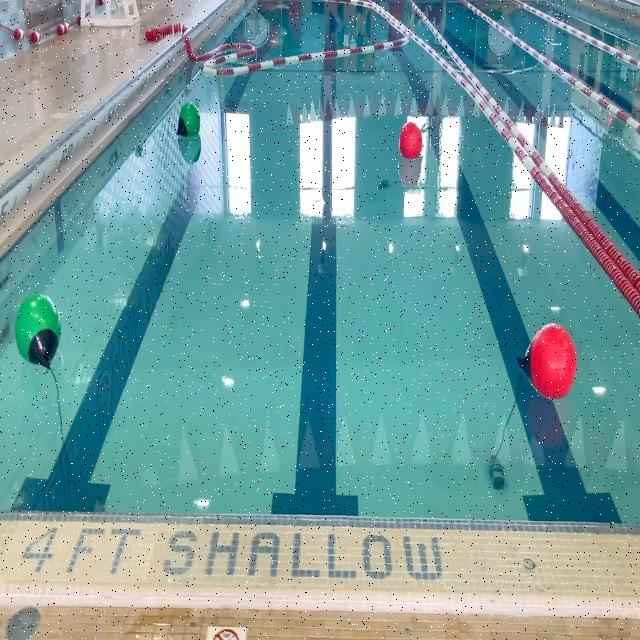buoy: (516, 326, 576, 396), (16, 291, 62, 368), (178, 100, 200, 144), (400, 122, 422, 162)
